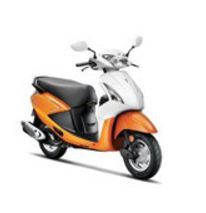bike: (18, 34, 169, 182)
